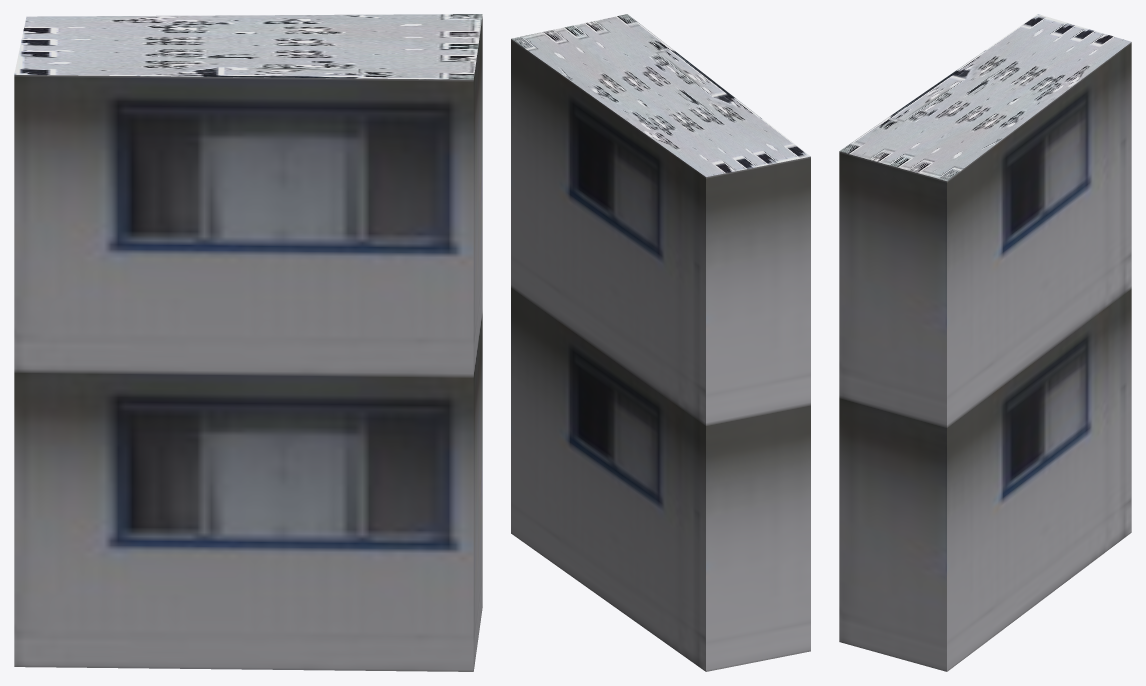
Rendered from ResTex__4957.fbx.
3 views of the same model, side by side, from view 1: azimuth 30°, elevation 25°; view 2: azimuth 150°, elevation 25°; view 3: azimuth 270°, elevation 25° (orthographic). The views are drawn at different scales.
Parts seen in each view (by area): view 1: CityEngineMaterial_9_m, CityEngineMaterial_m; view 2: CityEngineMaterial_9_m, CityEngineMaterial_m; view 3: CityEngineMaterial_9_m, CityEngineMaterial_m.
Part boxes in pixels (x1=…): CityEngineMaterial_9_m: x1=14, y1=16, x2=482, y2=671; CityEngineMaterial_m: x1=14, y1=14, x2=482, y2=79; CityEngineMaterial_9_m: x1=511, y1=39, x2=810, y2=671; CityEngineMaterial_m: x1=511, y1=14, x2=810, y2=176; CityEngineMaterial_9_m: x1=839, y1=42, x2=1131, y2=671; CityEngineMaterial_m: x1=839, y1=14, x2=1131, y2=180.
Size of the model in its own units: 4.39 by 6 by 3.24.
Materials: 2 (2 with a texture image).
